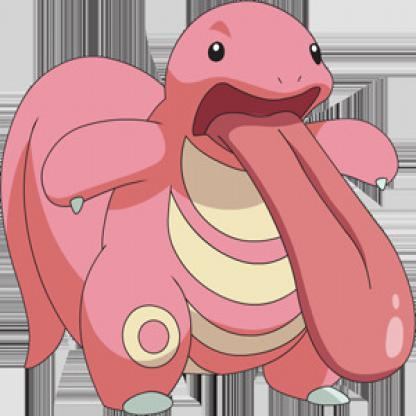Lickitung: (1, 4, 416, 415)
